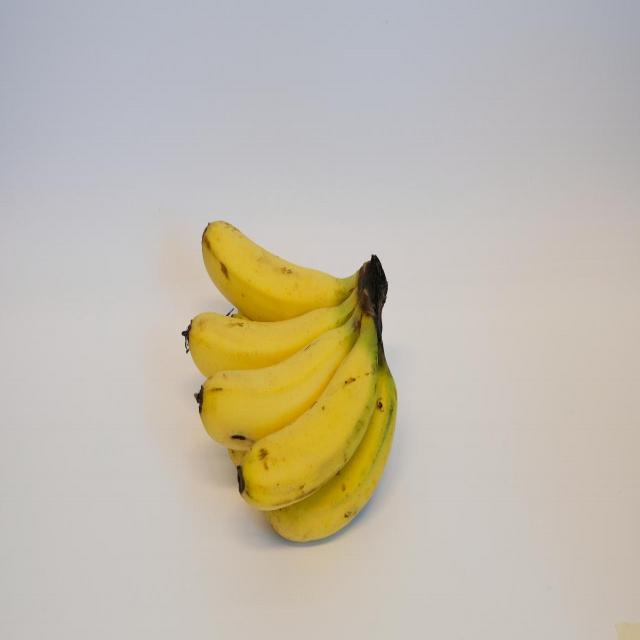banana: (228, 327, 380, 512), (266, 375, 409, 566), (192, 198, 361, 321), (203, 316, 356, 439), (178, 303, 340, 396)
